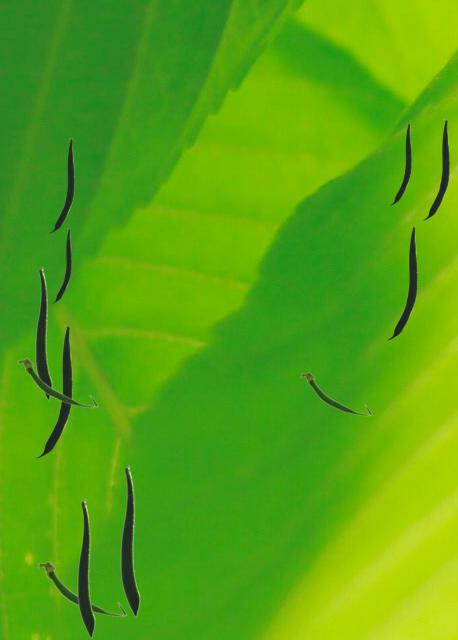french_bean: (37, 560, 126, 616), (35, 325, 71, 457), (17, 357, 97, 407), (386, 226, 416, 339), (300, 371, 371, 415), (120, 465, 139, 616), (423, 119, 448, 219), (77, 499, 94, 637), (49, 138, 73, 232), (35, 267, 51, 399), (390, 123, 410, 204), (52, 228, 70, 302)
